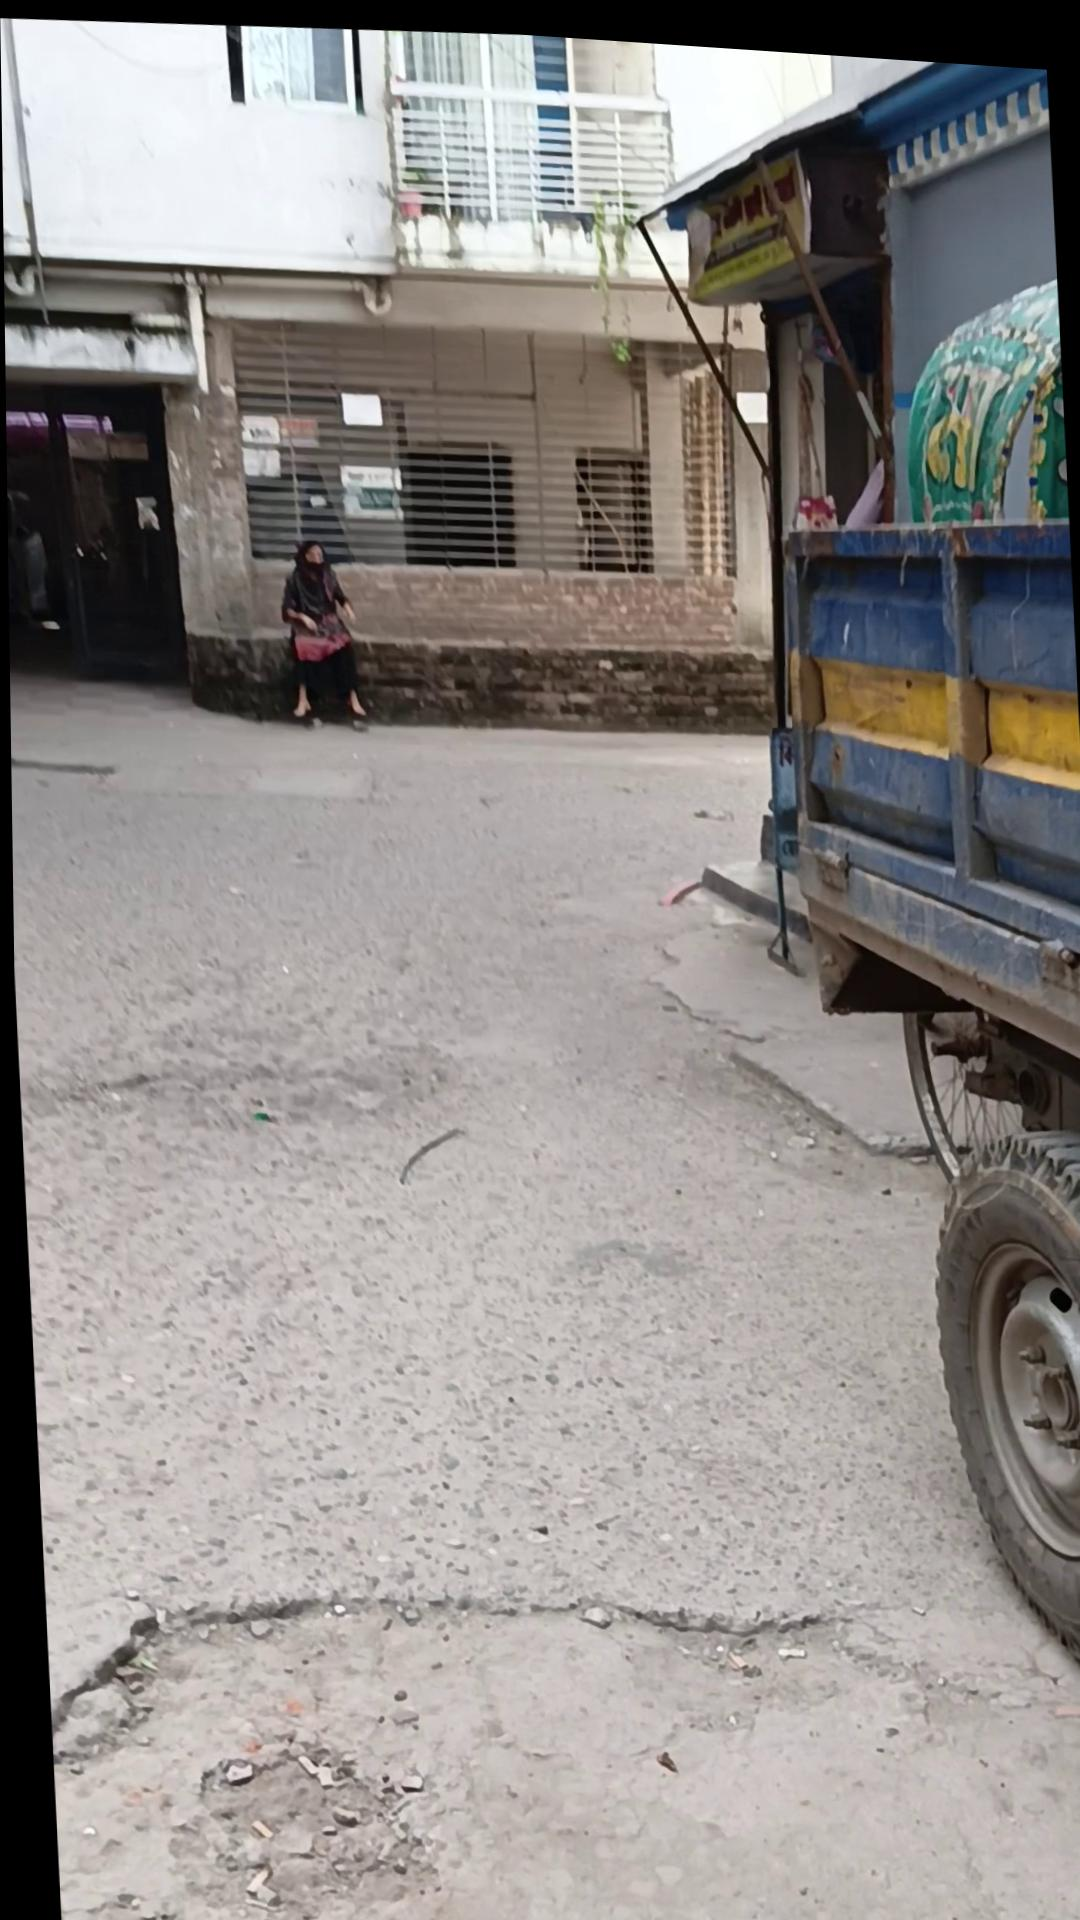Broken-road: (8, 630, 1080, 1920)
Crosswalk: (182, 605, 775, 748), (694, 845, 808, 928)
Muddy road: (274, 531, 368, 729)
Traffic-sign: (622, 33, 1080, 1680)
